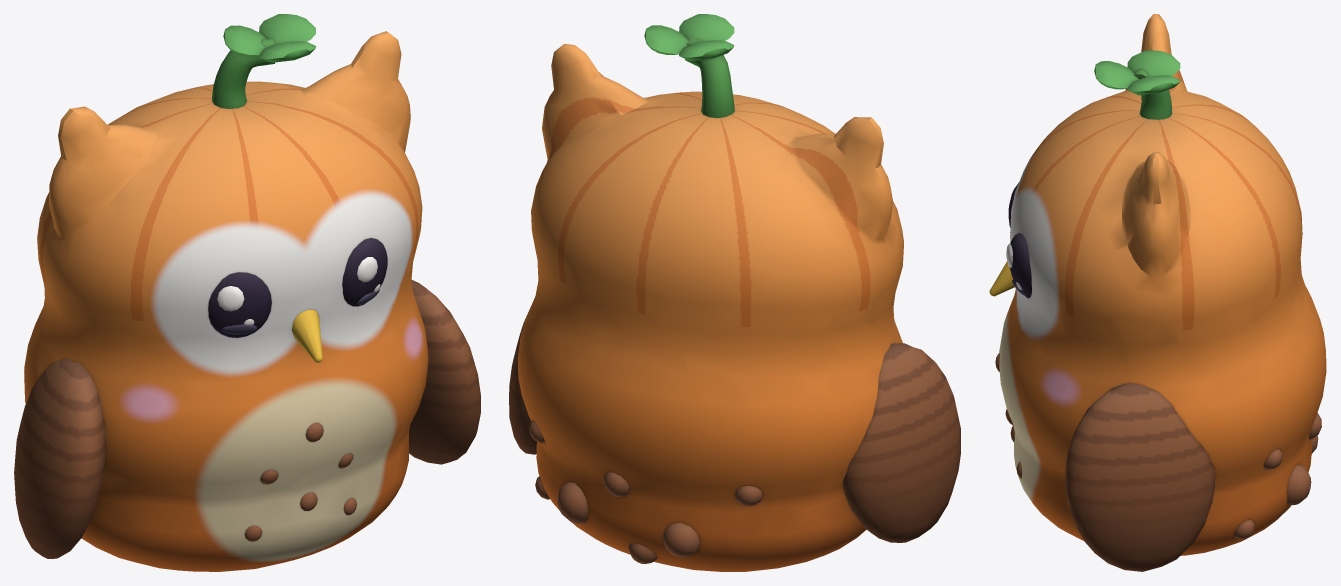
The model's file is creature_owl.fbx.
3 renders of one model, left to right at view 1: azimuth 30°, elevation 25°; view 2: azimuth 150°, elevation 25°; view 3: azimuth 270°, elevation 25°, orthographic. The views are drawn at different scales.
Parts seen in each view (by area): view 1: creature_owl; view 2: creature_owl; view 3: creature_owl.
Part boxes in pixels (x1,y1,x2,y2): creature_owl: (14,14,480,571); creature_owl: (509,14,960,571); creature_owl: (989,14,1326,571).
Size of the model in its own units: 399 by 450 by 290.
Materials: 1 (1 with a texture image).
